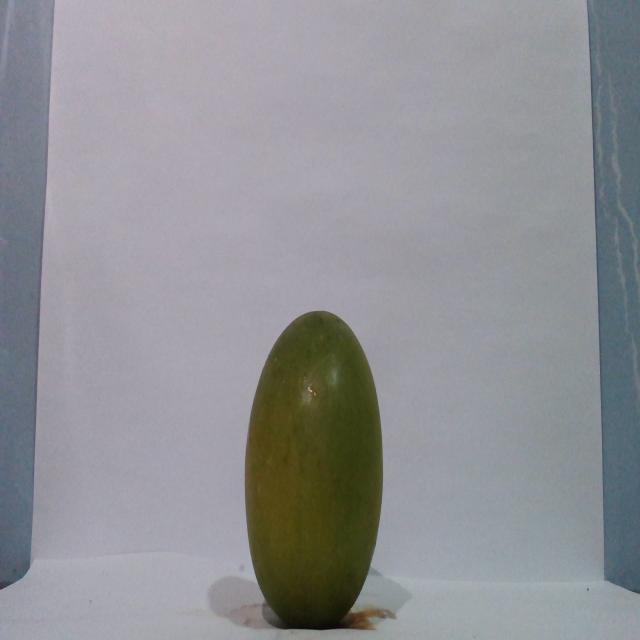Red: (242, 308, 385, 628)
